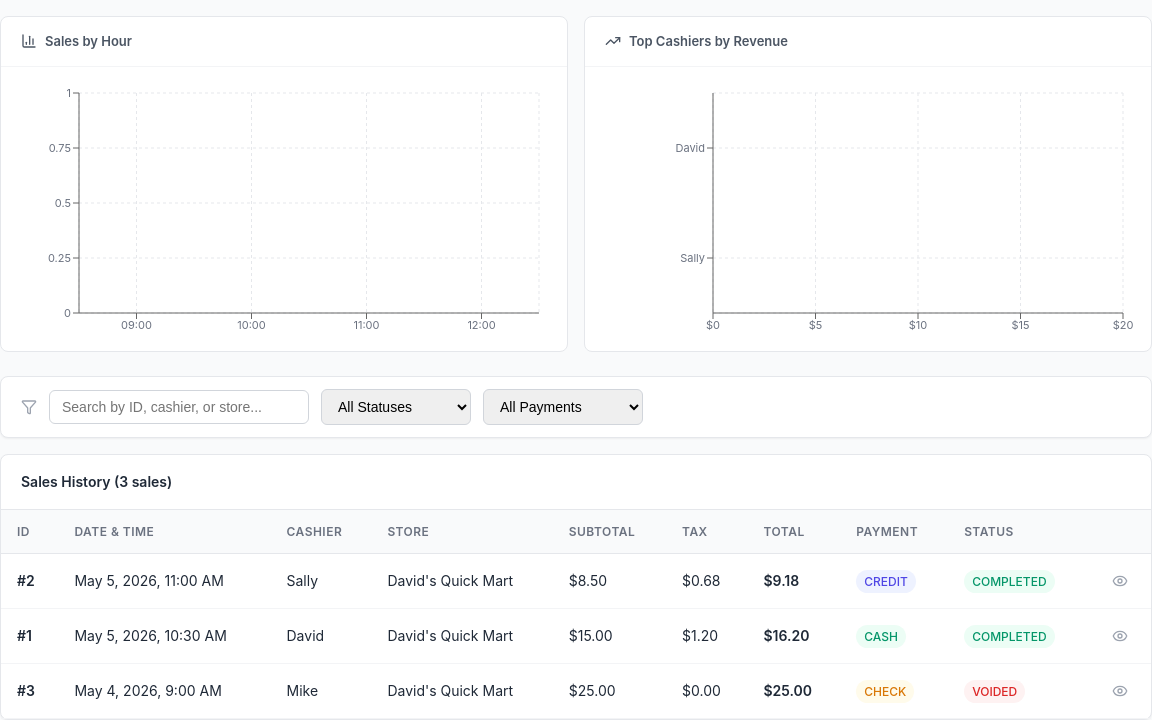
Test: Reports › opens sale detail modal on eye icon click
The width and height of the screenshot is (1152, 720).
(page scrolled)
Expected: the text "#1" is shown, [1,609,58,664]
Sales are sorted newest first, so #1 is the last row
Click the button titled "View details" in the row of "May 5, 2026, 10:30 AM". click: click(1120, 636)
box: [1105,621,1135,651]
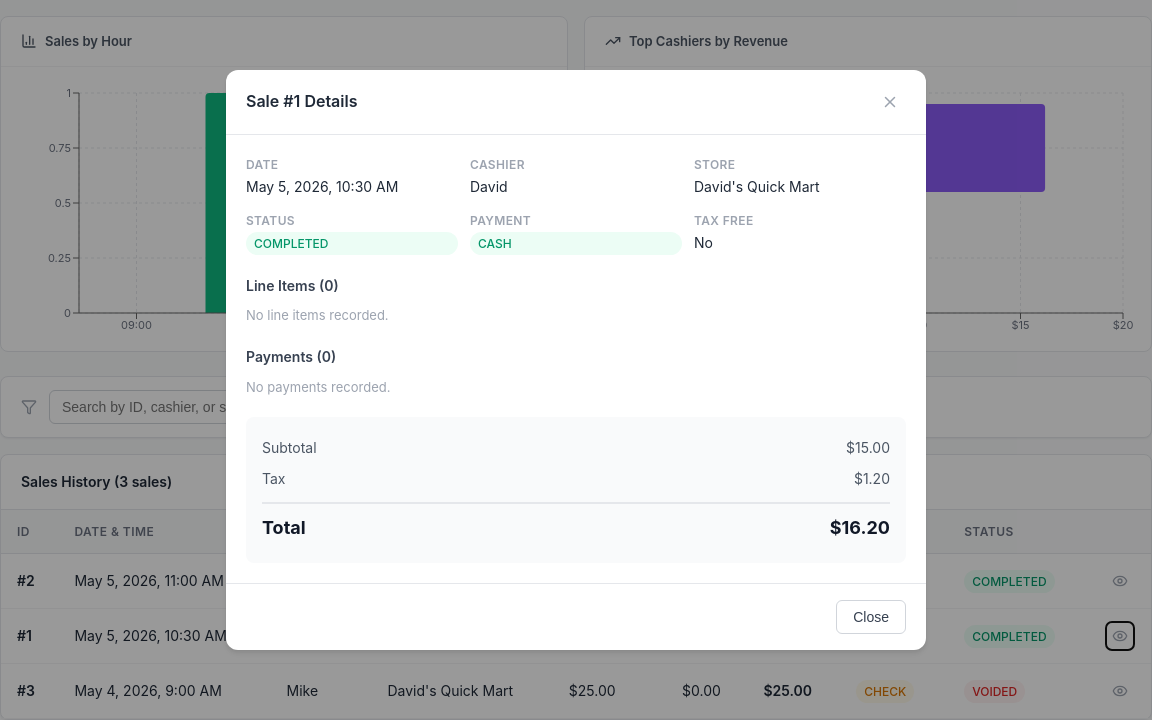
Result: the element with class "modal-overlay" is shown
